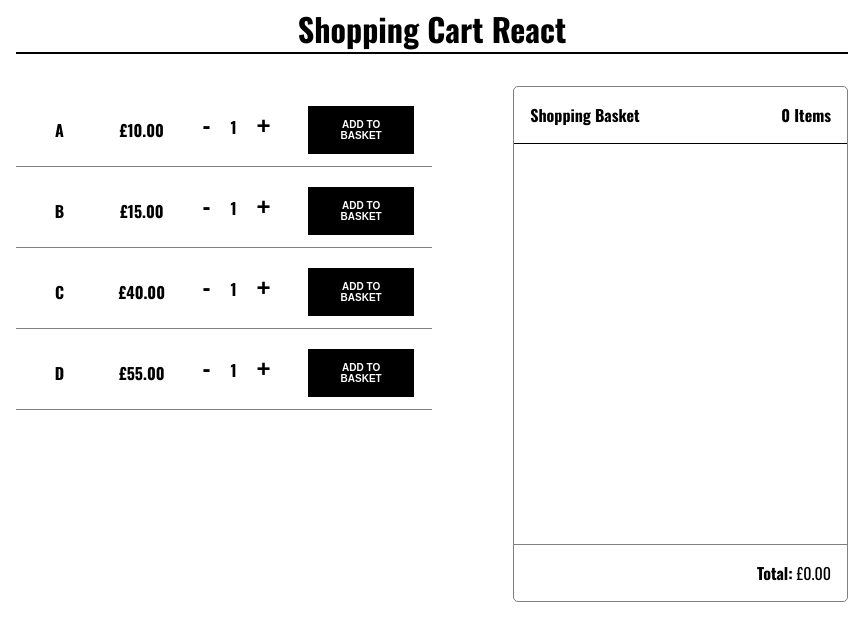
Test: App tests › should be able to add item to the basket
This screenshot has width=865, height=619.
Click the button with test id "add-to-basket-button-product-A". click: (361,130)
box: [308,106,414,154]
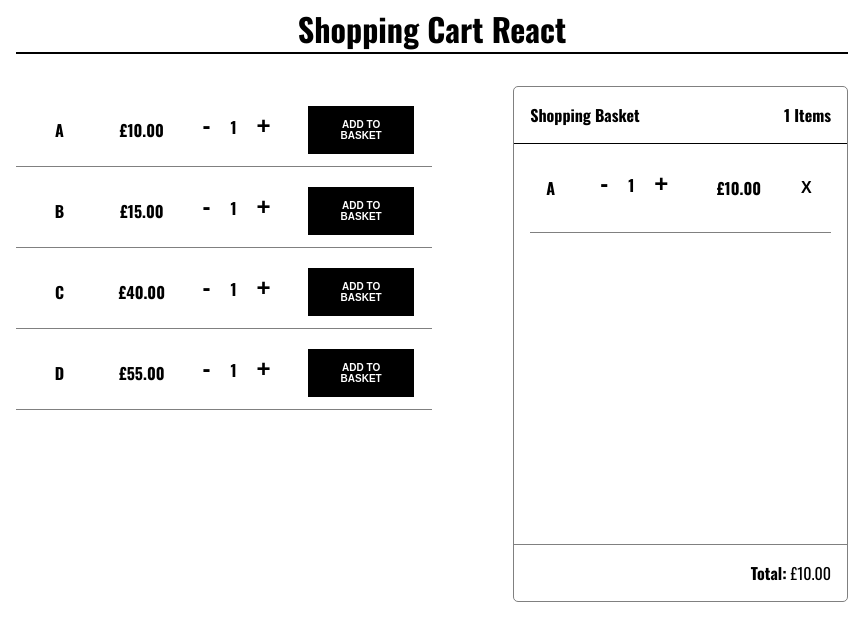
Check: the text with test id "basket-product-stock-keeping-unit-A" is shown, box [546,176,555,200]
